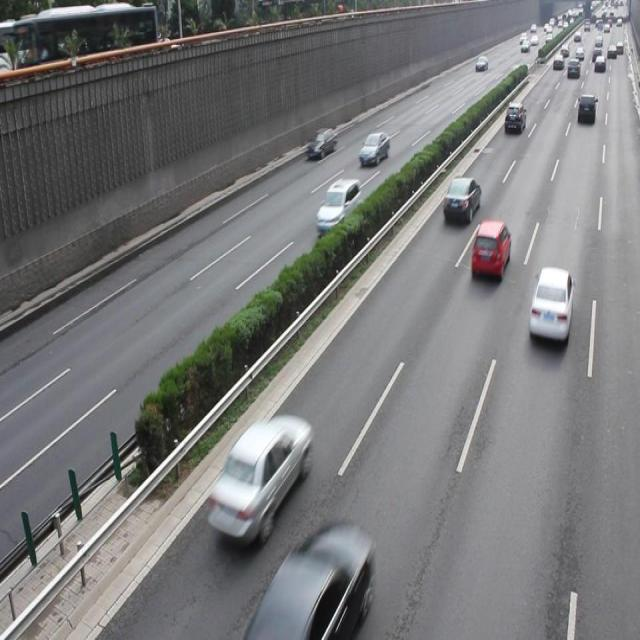car: (203, 414, 310, 545), (255, 524, 371, 640), (527, 266, 572, 344), (469, 219, 510, 281), (315, 177, 360, 231), (442, 174, 481, 224), (358, 130, 389, 165)
